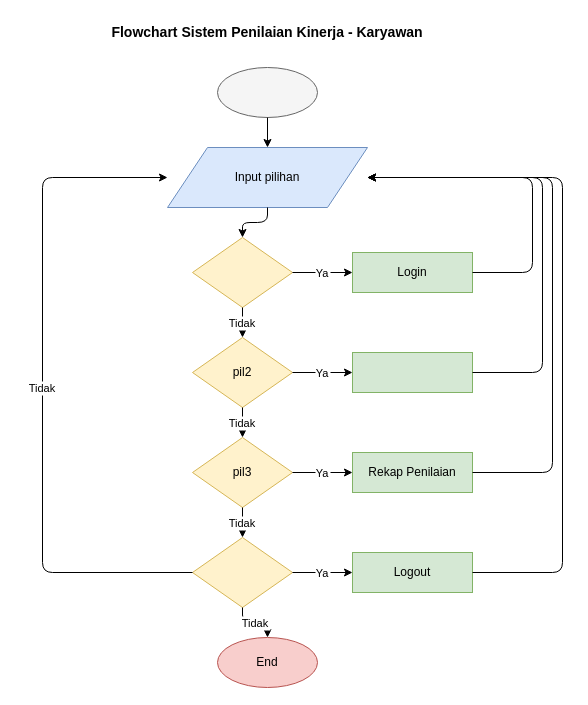
The diagram is 588 pixels wide and 705 high, and some of its shapes have lost their labels. The shapes that lost their labels are listed below. From the top down, each one's centre as x and y in pixels, then its label:
At [267,92]: "Start".
At [242,272]: "pil1".
At [412,372]: "Dashboard".
At [242,572]: "pil4".
